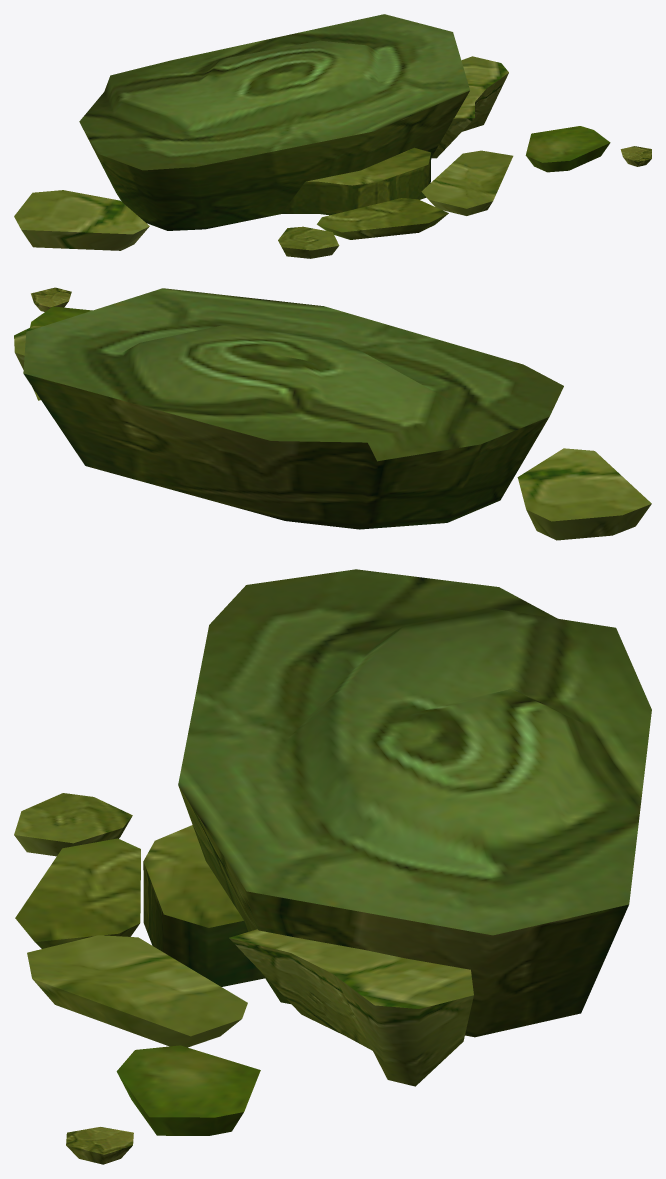
Rendered from stone06.fbx.
3 views of the same model, one above another, from view 1: azimuth 30°, elevation 25°; view 2: azimuth 150°, elevation 25°; view 3: azimuth 270°, elevation 25° (orthographic). The views are drawn at different scales.
Parts seen in each view (by area): view 1: stone06; view 2: stone06; view 3: stone06.
Boxes of the visible parts, x1,y1,x2,y2 form: stone06: (14, 14, 651, 258); stone06: (14, 287, 651, 540); stone06: (14, 569, 651, 1164).
Size of the model in its own units: 925 by 141 by 468.
